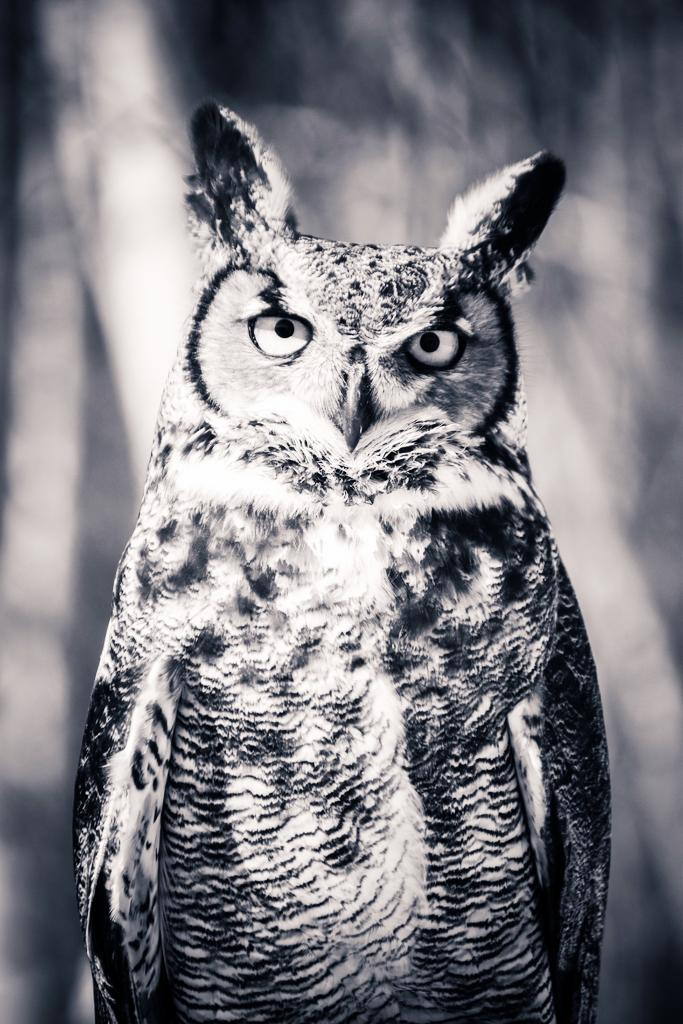Owl: (75, 104, 612, 1024)
